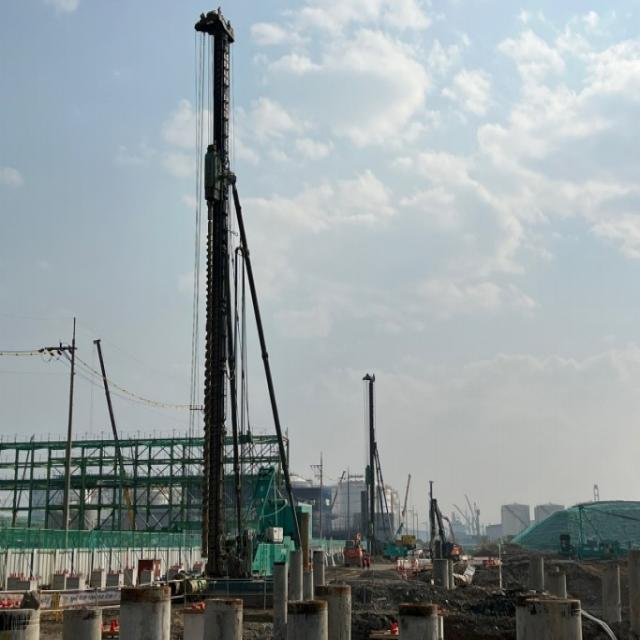pile: (201, 222, 214, 557)
